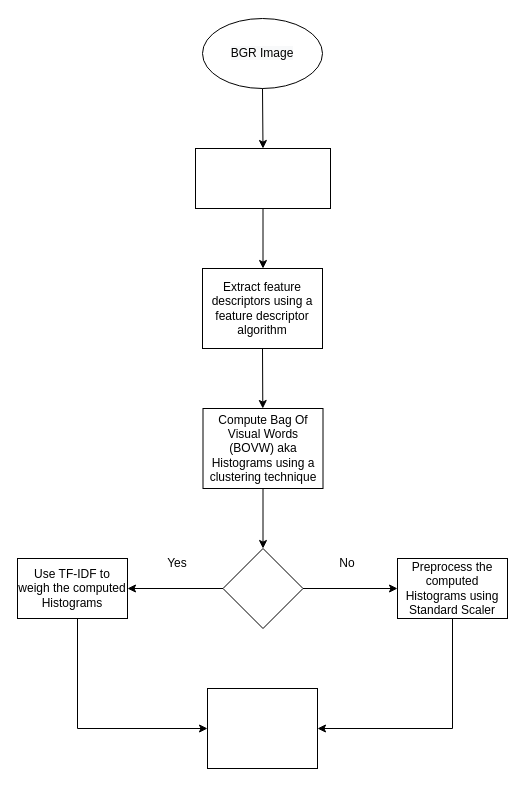
Image size: 525x786. Some labels were removed from this diagram. Each missing label, with the centre of its shape:
Preprocess Images - Convert BGR to Grayscale: the point at 262,178
TF-IDF?: the point at 262,588
Use any classifier on the preprocessed or weighted Histograms: the point at 262,728
